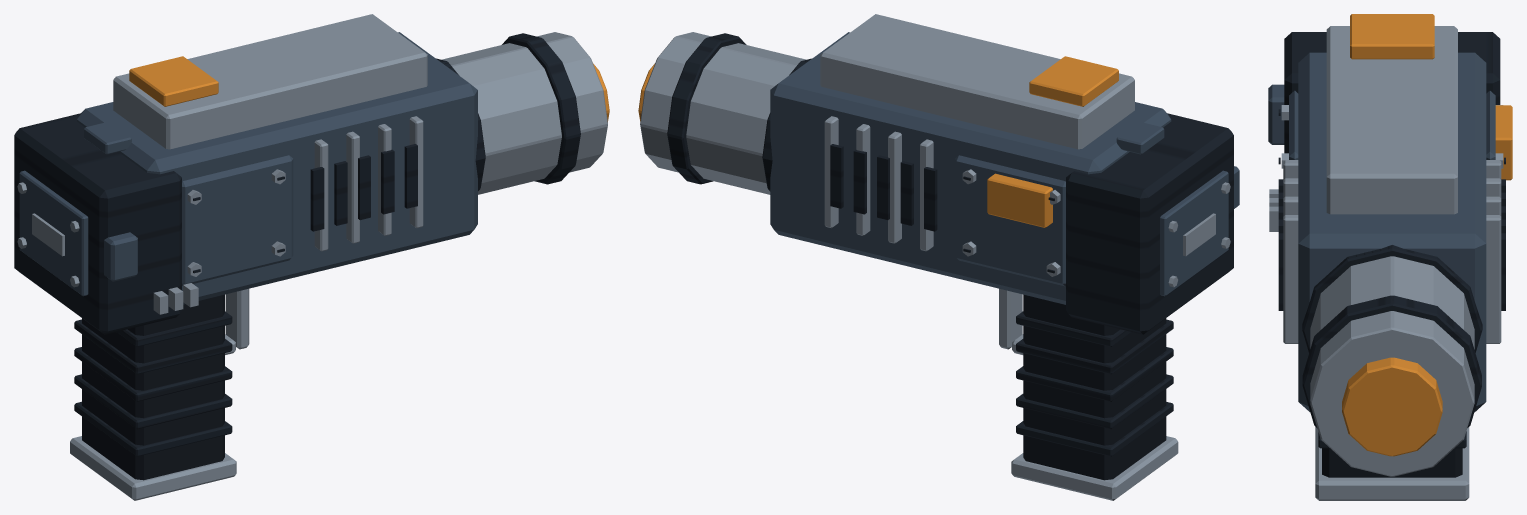
The picture shows the model from 3 angles, left to right: view 1: azimuth 30°, elevation 25°; view 2: azimuth 150°, elevation 25°; view 3: azimuth 270°, elevation 25°; orthographic projection. The views are drawn at different scales.
Visible parts, largest first — view 1: Housing, Top_Rail, Battery, Housing_Details, Rubber_Details, Grip, Emitter_Collar, Metal_Details, Status_Top, Cooling_Fin_1, Cooling_Fin_3, Cooling_Fin_0 (+1 smaller); view 2: Housing, Battery, Top_Rail, Rubber_Details, Grip, Emitter_Collar, Housing_Details, Metal_Details, Status_Top, Status_Panel, Cooling_Fin_1, Cooling_Fin_3 (+2 smaller); view 3: Top_Rail, Housing, Emitter_Collar, Rubber_Details, Emitter_Lens, Metal_Details, Cooling_Fin_3, Status_Top, Battery, Housing_Details, Grip, Status_Panel (+3 smaller).
Part boxes in pixels (x1,y1,x2,y2): Housing: (77, 32, 477, 304); Top_Rail: (113, 14, 427, 149); Battery: (14, 113, 181, 334); Housing_Details: (19, 121, 293, 296); Rubber_Details: (74, 33, 580, 456); Grip: (82, 294, 224, 480); Emitter_Collar: (442, 32, 607, 194); Metal_Details: (17, 169, 285, 500); Status_Top: (129, 56, 218, 106); Cooling_Fin_1: (346, 131, 359, 243); Cooling_Fin_3: (409, 116, 423, 228); Cooling_Fin_0: (314, 139, 328, 251); Housing: (770, 32, 1171, 304); Battery: (1066, 113, 1233, 334); Top_Rail: (820, 14, 1134, 149); Rubber_Details: (667, 33, 1173, 456); Grip: (1023, 294, 1166, 480); Emitter_Collar: (640, 32, 805, 194); Housing_Details: (955, 121, 1239, 296); Metal_Details: (962, 169, 1230, 500); Status_Top: (1029, 56, 1118, 106); Status_Panel: (987, 173, 1052, 227); Cooling_Fin_1: (888, 131, 901, 243); Cooling_Fin_3: (824, 116, 838, 228); Top_Rail: (1326, 26, 1457, 214); Housing: (1298, 52, 1486, 412); Emitter_Collar: (1310, 256, 1474, 476); Rubber_Details: (1278, 109, 1505, 448); Emitter_Lens: (1342, 357, 1442, 456); Metal_Details: (1269, 105, 1503, 500); Cooling_Fin_3: (1283, 215, 1501, 343); Status_Top: (1350, 14, 1434, 59); Battery: (1284, 32, 1500, 153); Housing_Details: (1268, 84, 1495, 159); Grip: (1322, 448, 1462, 477); Status_Panel: (1495, 105, 1512, 180).
Size of the model in its own units: 0.3935 by 0.2675 by 0.13.
Materials: 4 (4 with a texture image).
